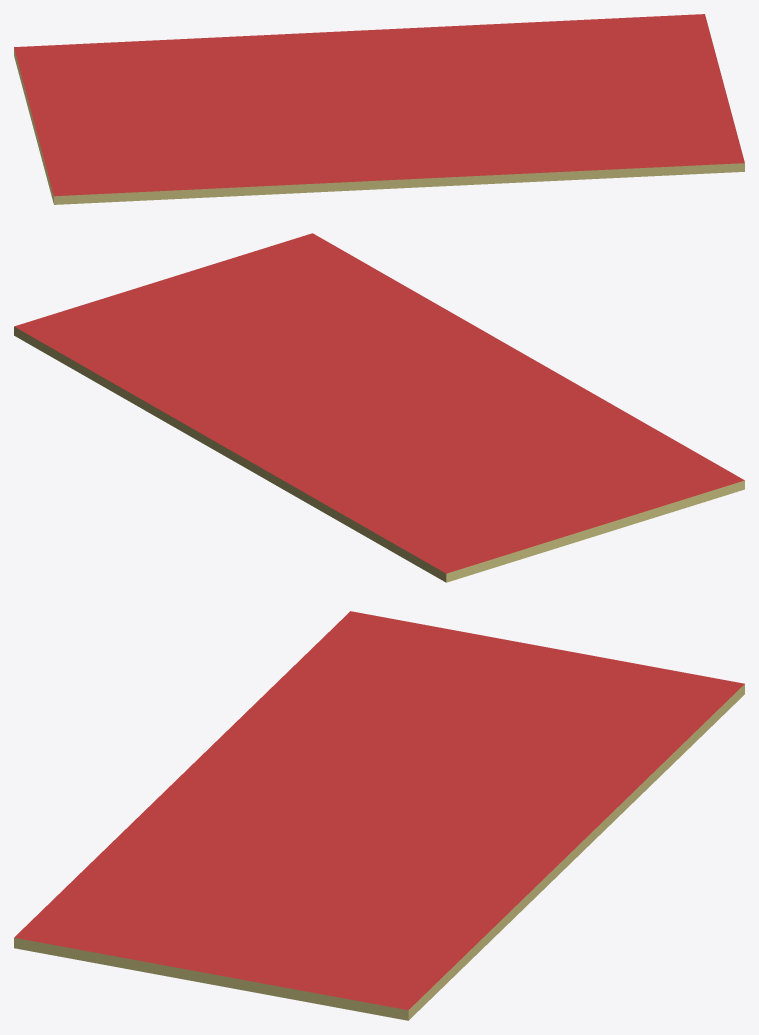
3 views of the same model, one above another, from view 1: azimuth 30°, elevation 25°; view 2: azimuth 150°, elevation 25°; view 3: azimuth 270°, elevation 25° (orthographic). The views are drawn at different scales.
Size of the model in its own units: 8.11 by 6.27 by 0.1.
